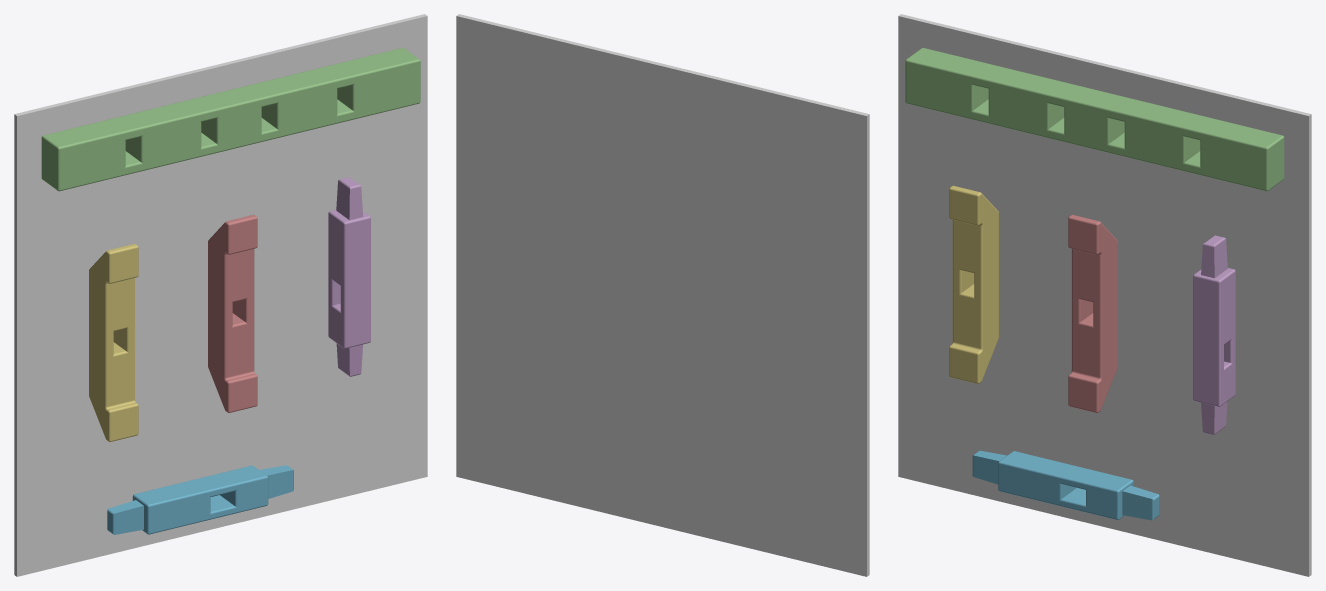
Rendered from pickup_layout.glb.
3 renders of one model, left to right at view 1: azimuth 30°, elevation 25°; view 2: azimuth 150°, elevation 25°; view 3: azimuth 330°, elevation 25°, orthographic.
Parts seen in each view (by area): view 1: world, 6.obj, 0.obj, 1.obj, 2.obj, 3.obj; view 2: world; view 3: world, 6.obj, 0.obj, 1.obj, 2.obj, 3.obj.
Boxes of the visible parts, x1,y1,x2,y2 form: world: (14,14,427,576); 6.obj: (41,47,420,191); 0.obj: (208,214,257,412); 1.obj: (89,244,138,441); 2.obj: (107,465,293,534); 3.obj: (328,177,370,376); world: (456,14,869,576); world: (898,14,1311,576); 6.obj: (905,47,1284,191); 0.obj: (1068,214,1117,412); 1.obj: (949,185,998,383); 2.obj: (972,450,1159,520); 3.obj: (1193,235,1235,434).
Size of the model in its own units: 17.24 by 18.49 by 1.72.
